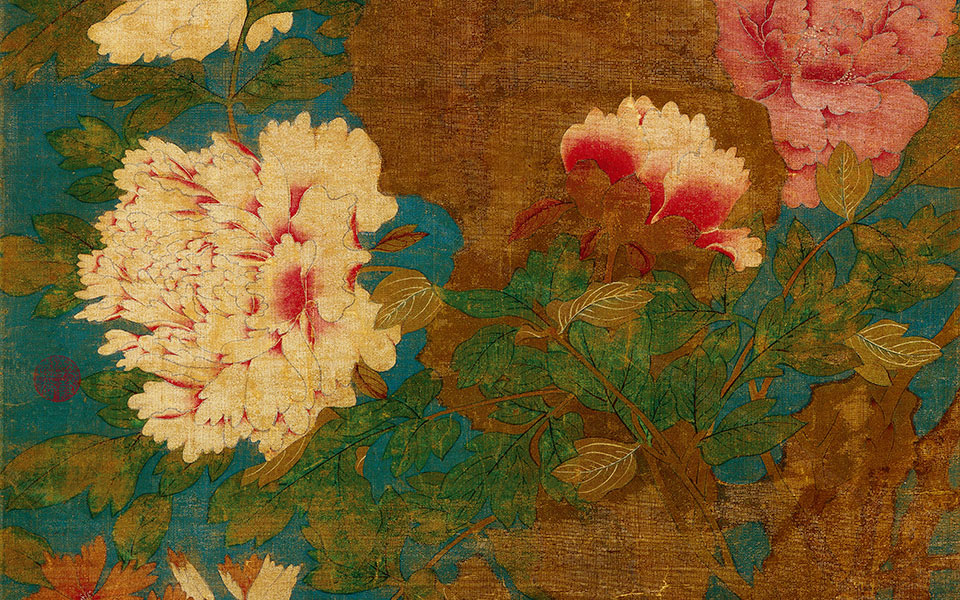peony: (116, 139, 371, 429), (547, 95, 769, 281), (711, 1, 952, 168)
